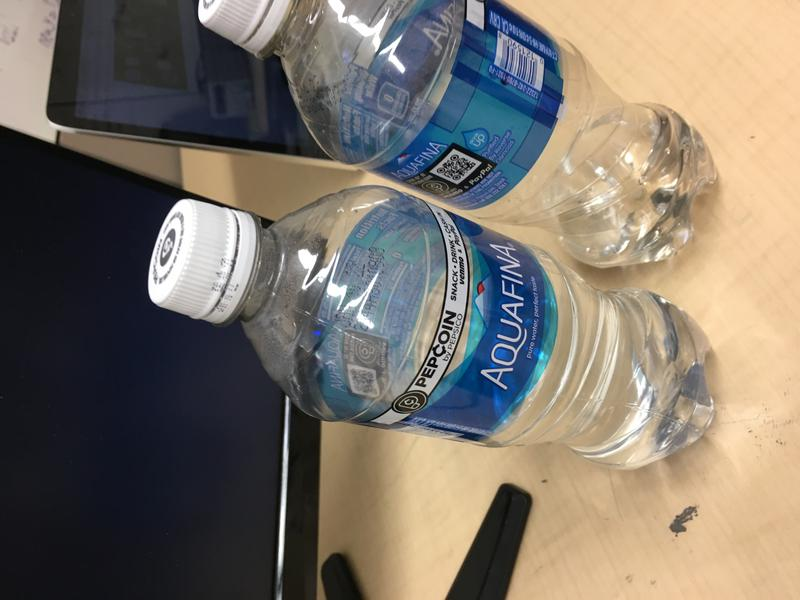bottle: (147, 183, 716, 470), (195, 1, 718, 270)
